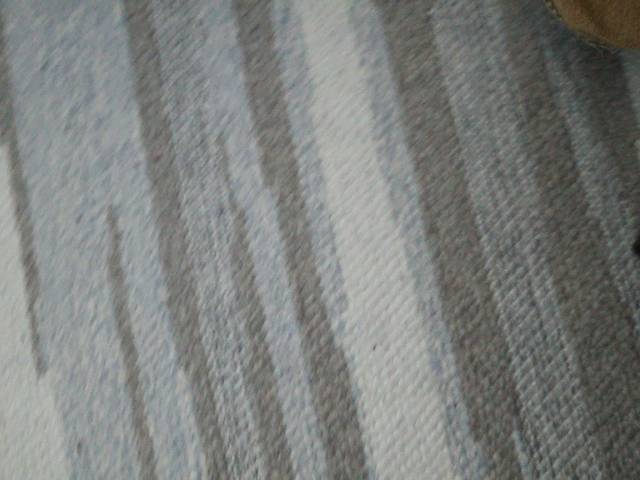crater: (432, 318, 582, 468), (215, 324, 365, 474), (317, 400, 380, 463)
shadow: (541, 0, 640, 126)
